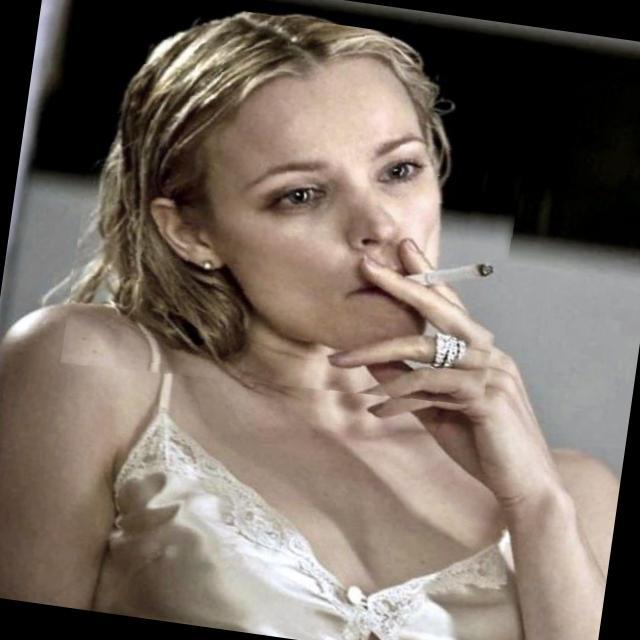cigarette: (374, 247, 552, 336)
